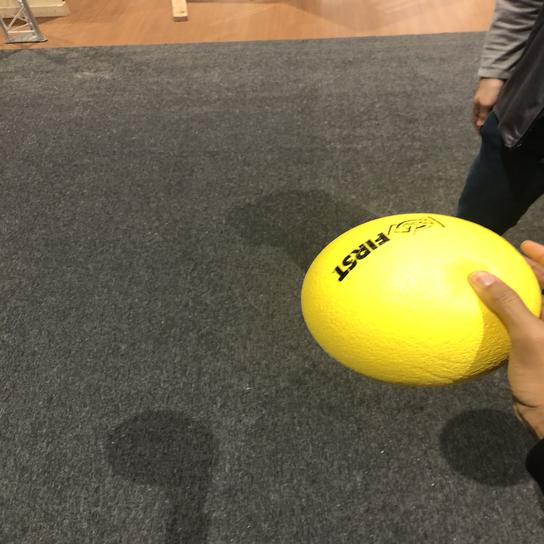ball: (298, 212, 544, 391)
